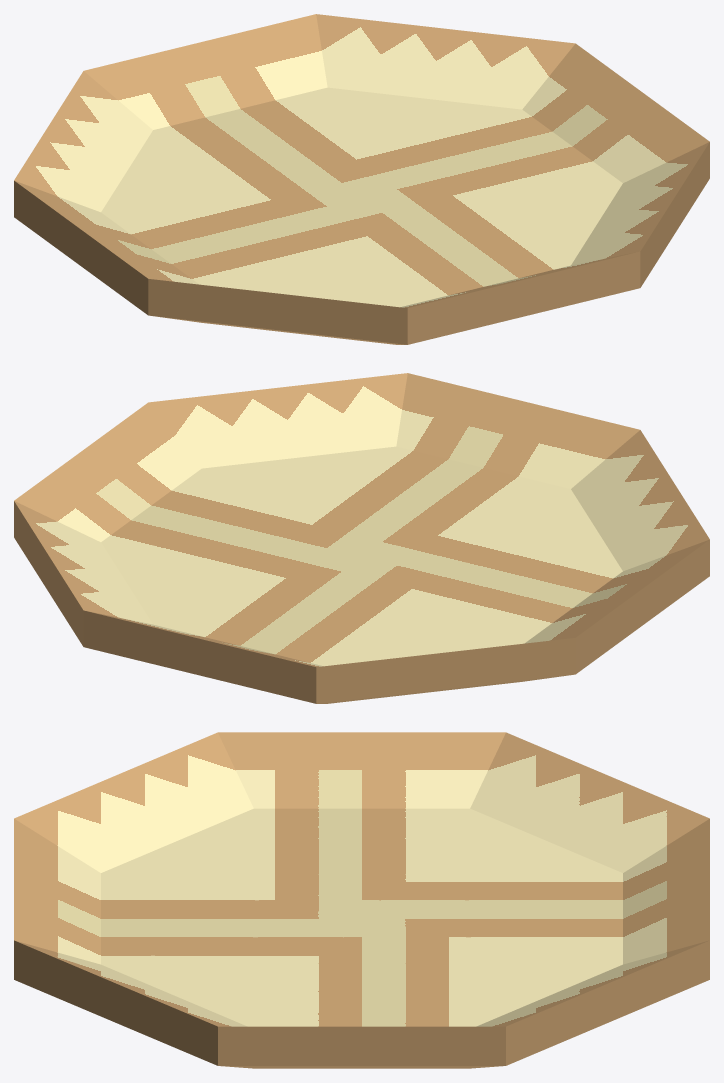
Rendered from plate.obj.
3 renders of one model, top to bottom at view 1: azimuth 30°, elevation 25°; view 2: azimuth 150°, elevation 25°; view 3: azimuth 270°, elevation 25°, orthographic. The views are drawn at different scales.
Visible parts, largest first — view 1: cylinder; view 2: cylinder; view 3: cylinder.
Boxes of the visible parts, left/top/right/bottom form: cylinder: left=14, top=14, right=709, bottom=344; cylinder: left=14, top=373, right=709, bottom=703; cylinder: left=14, top=732, right=709, bottom=1068.
Bounding box in the file's own units: 0.5 × 0.0625 × 0.5.
